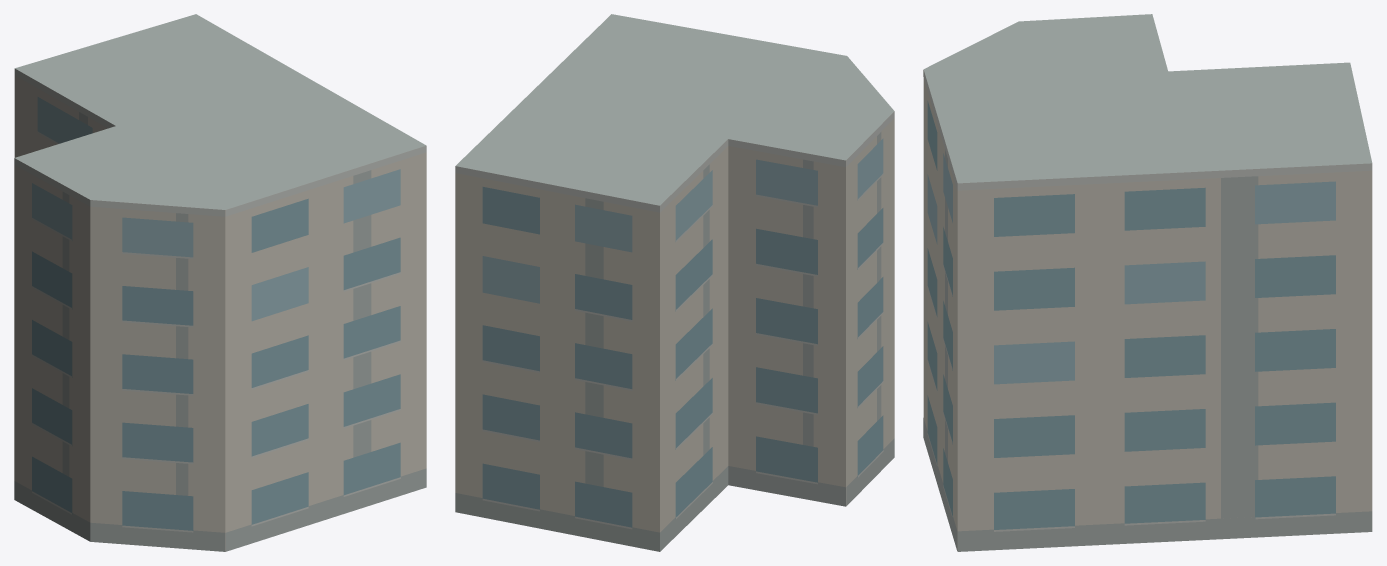
Rendered from survey-upis-32631134.glb.
3 views of the same model, side by side, from view 1: azimuth 30°, elevation 25°; view 2: azimuth 150°, elevation 25°; view 3: azimuth 270°, elevation 25° (orthographic). The views are drawn at different scales.
Visible parts, largest first — view 1: survey-upis-32631134.tmp; view 2: survey-upis-32631134.tmp; view 3: survey-upis-32631134.tmp.
Part boxes in pixels (x1,y1,x2,y2): survey-upis-32631134.tmp: (14, 14, 426, 551); survey-upis-32631134.tmp: (455, 14, 894, 551); survey-upis-32631134.tmp: (923, 14, 1372, 551).
Bounding box in the file's own units: 12.13 × 12.3 × 13.59.
